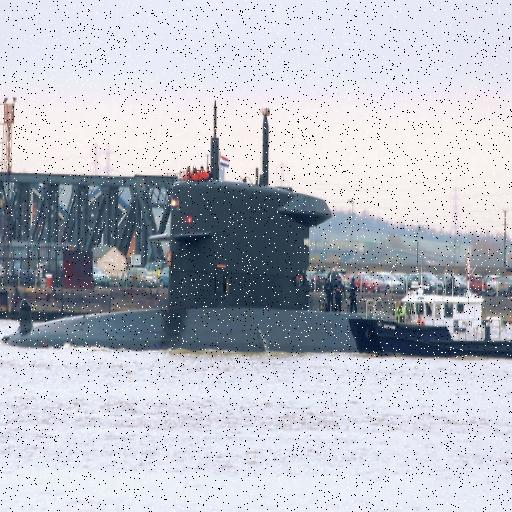submarine: (18, 97, 512, 361)
